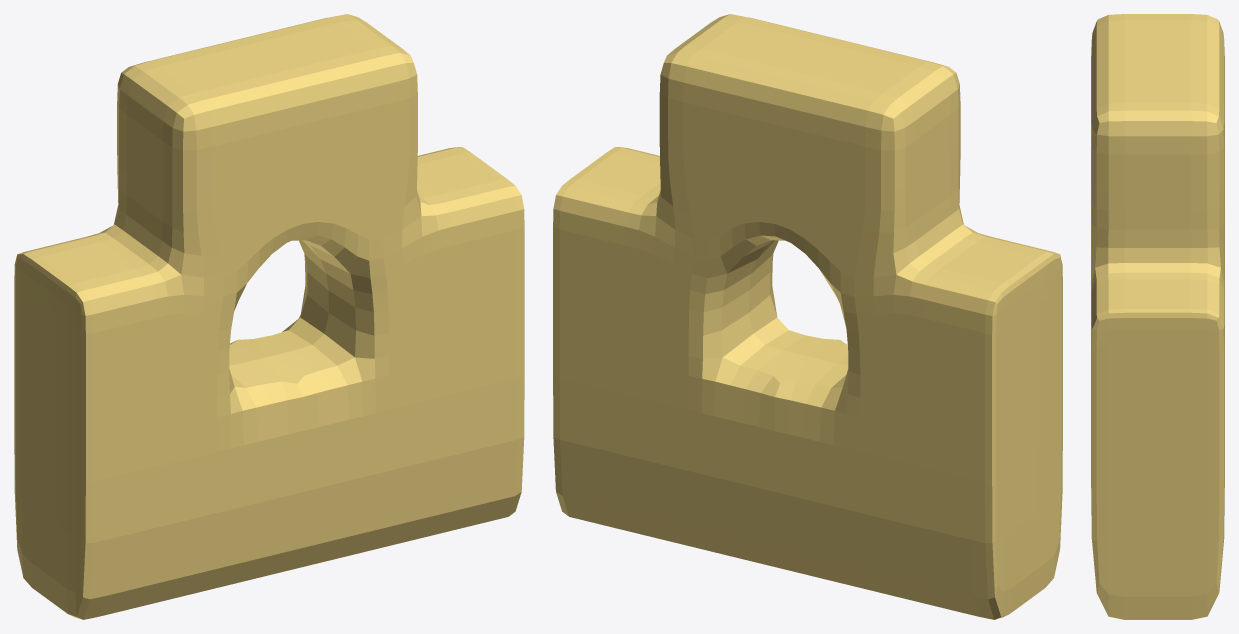
Rendered from wallSummer.glb.
The picture shows the model from 3 angles, left to right: view 1: azimuth 30°, elevation 25°; view 2: azimuth 150°, elevation 25°; view 3: azimuth 270°, elevation 25°; orthographic projection. The views are drawn at different scales.
Parts seen in each view (by area): view 1: Cube.007; view 2: Cube.007; view 3: Cube.007.
Part boxes in pixels (x1,y1,x2,y2): Cube.007: [14, 14, 524, 619]; Cube.007: [553, 14, 1062, 619]; Cube.007: [1091, 14, 1224, 619].
Size of the model in its own units: 1.01 by 1.08 by 0.285.
